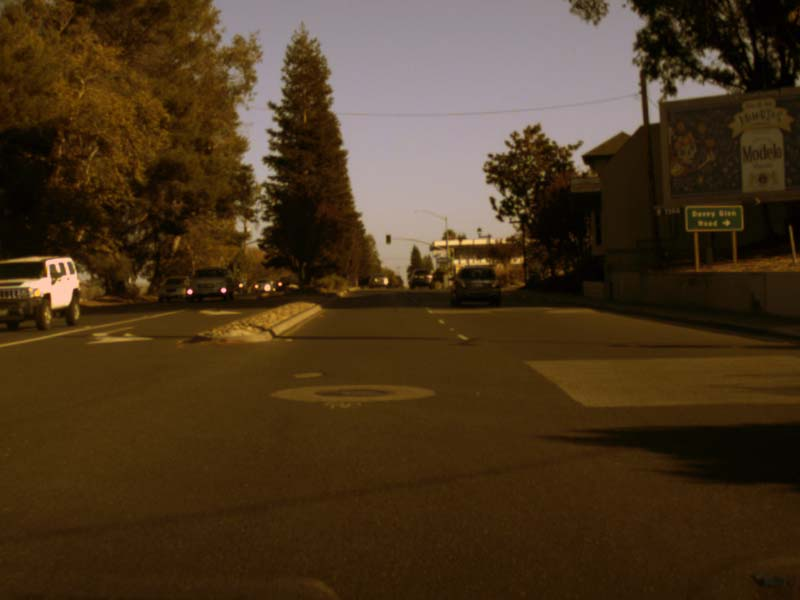Green: (385, 234, 390, 243)
